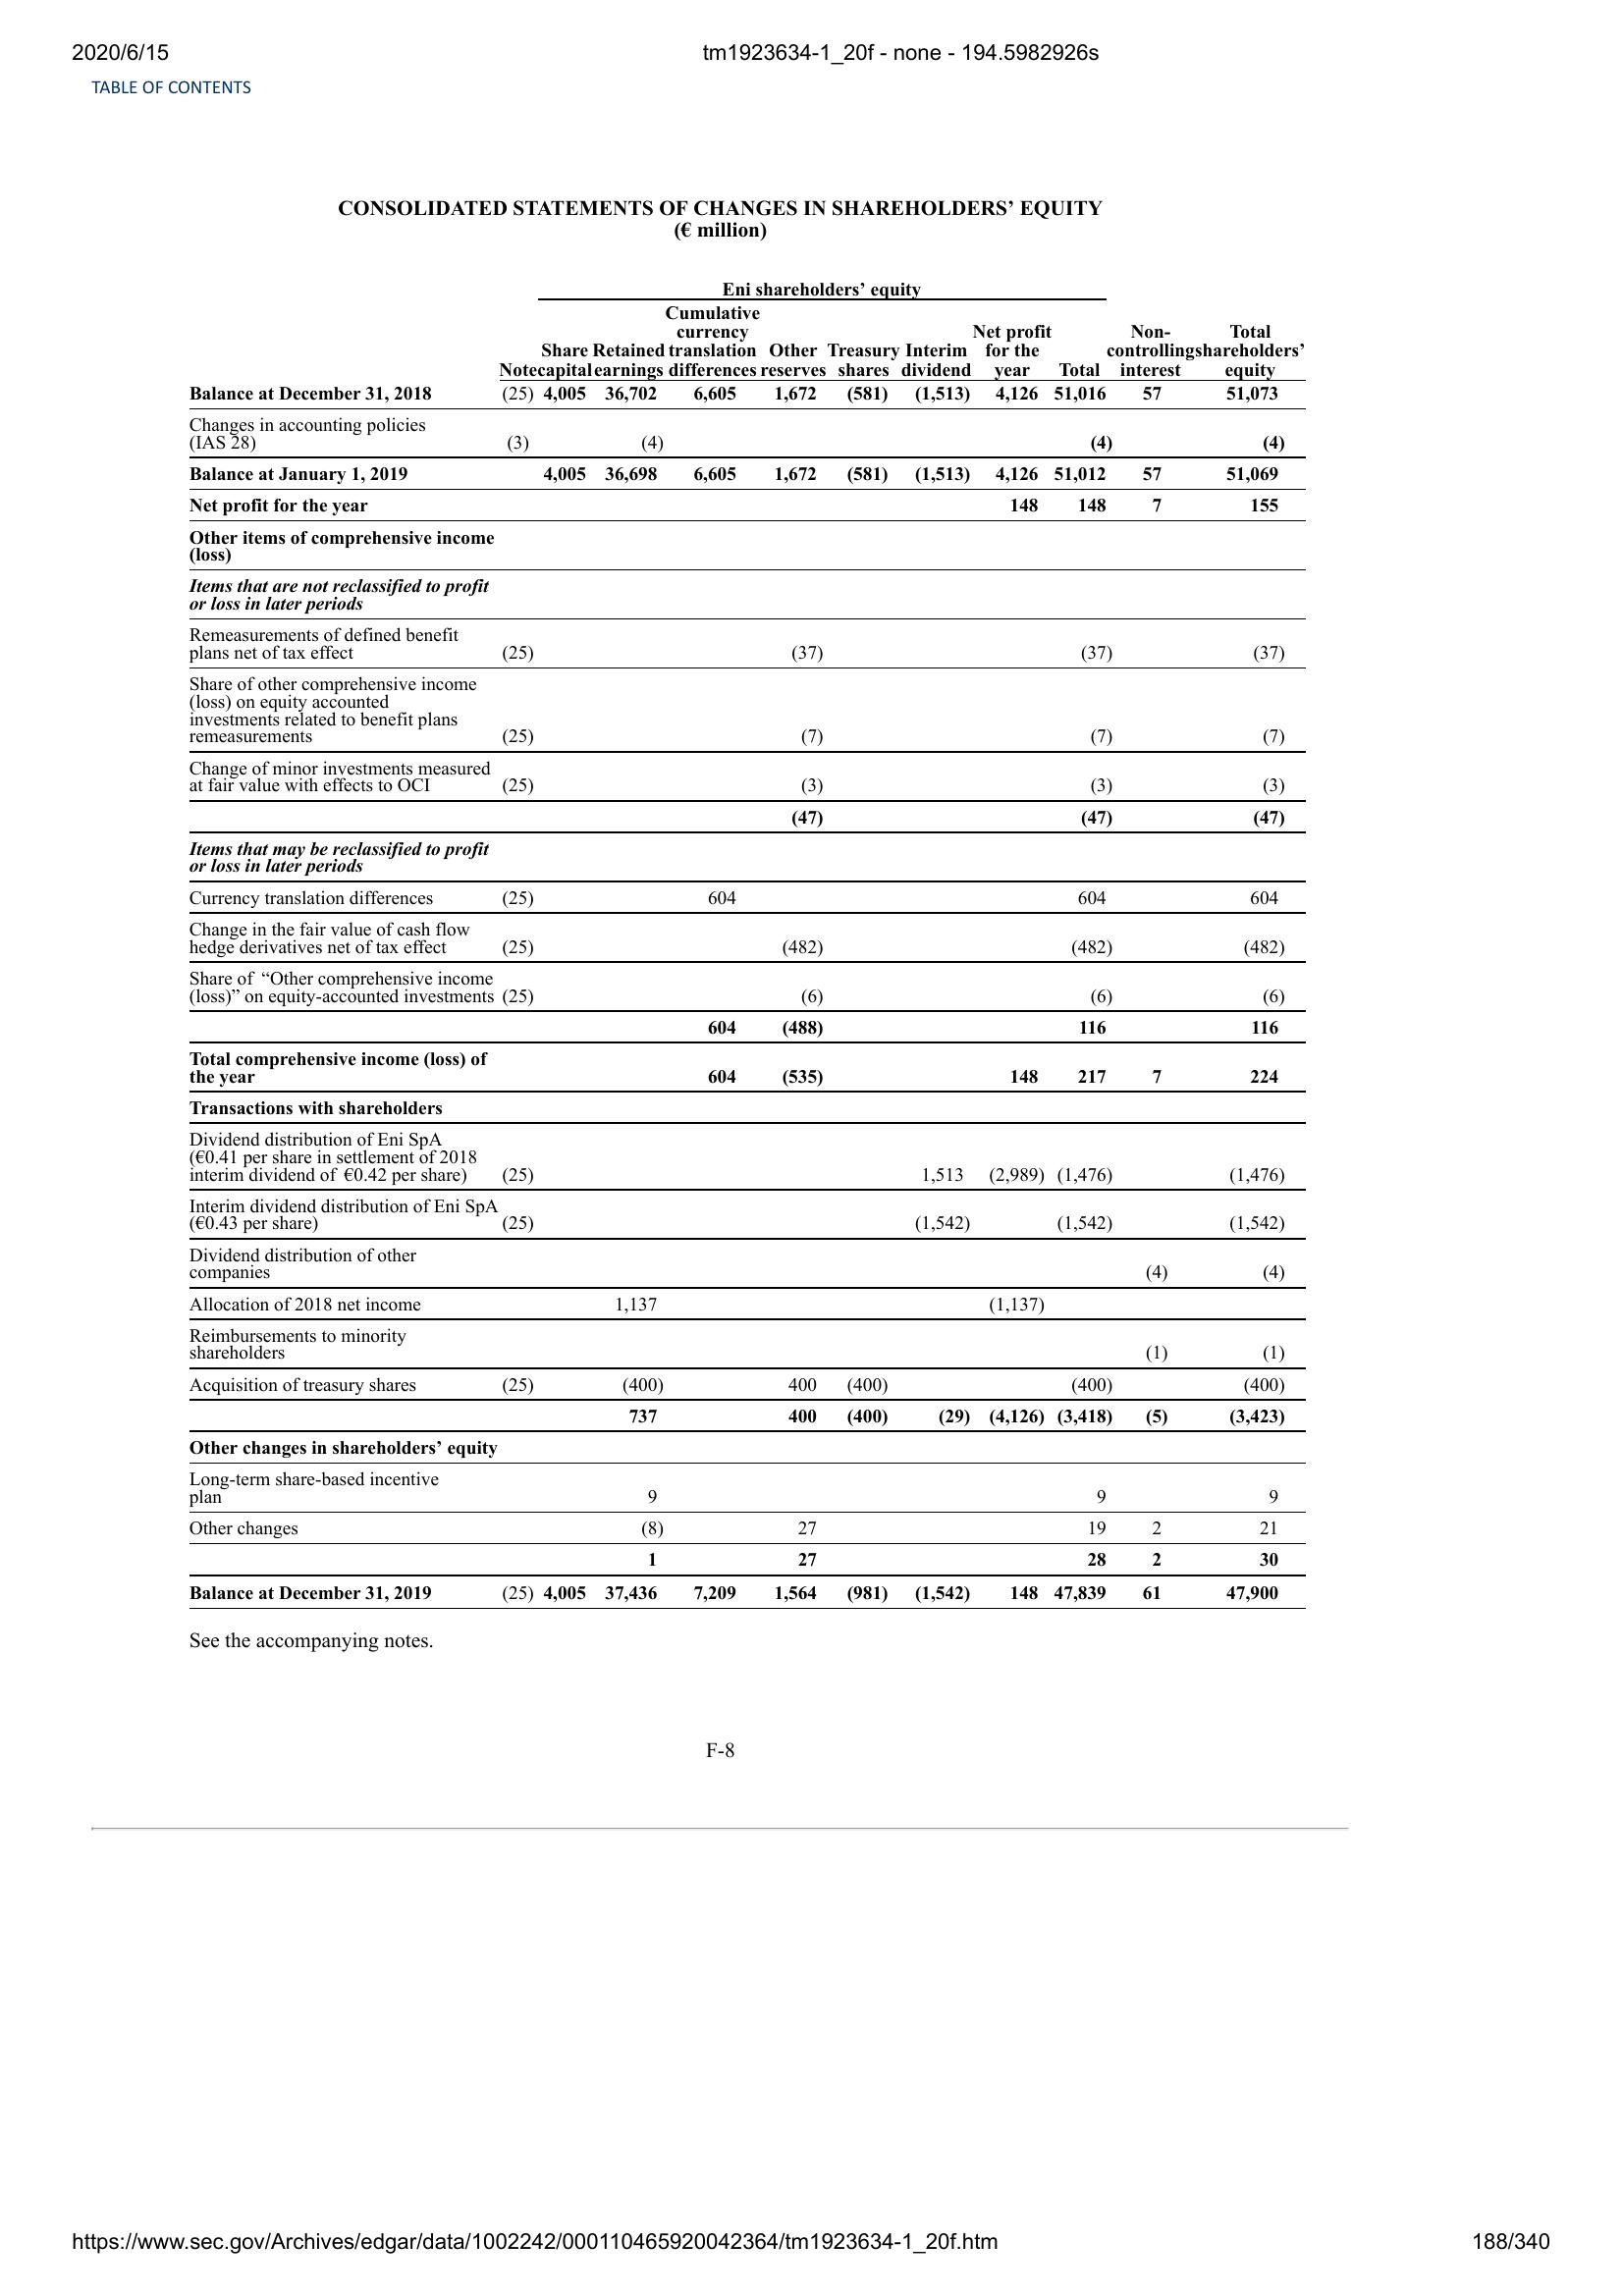table: (186, 276, 1317, 1618)
